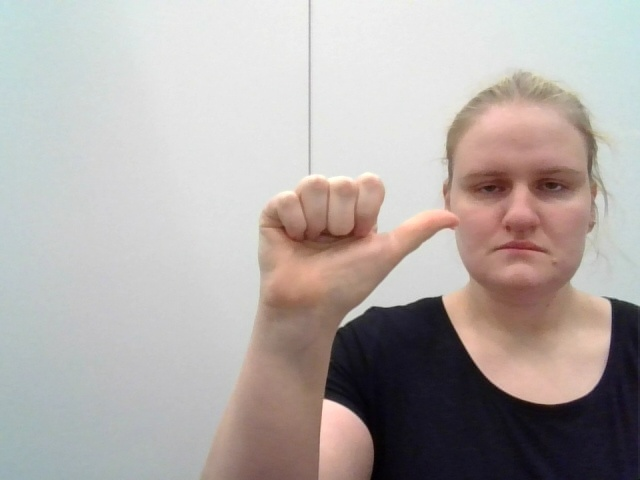left: (242, 163, 474, 337)
